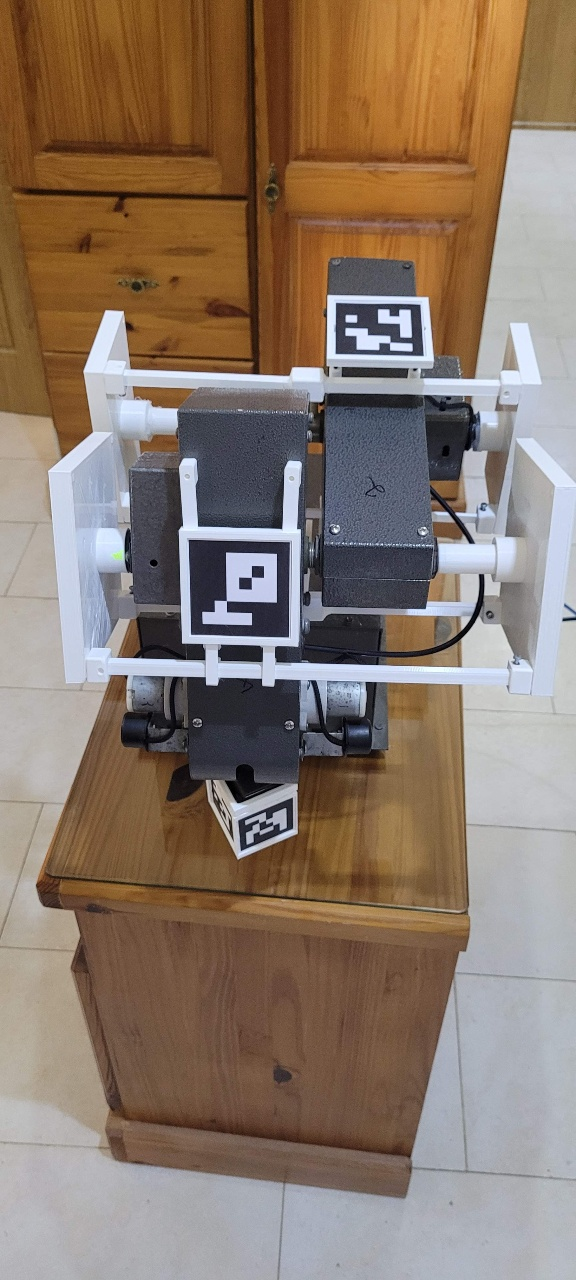Robot: (45, 254, 576, 865)
